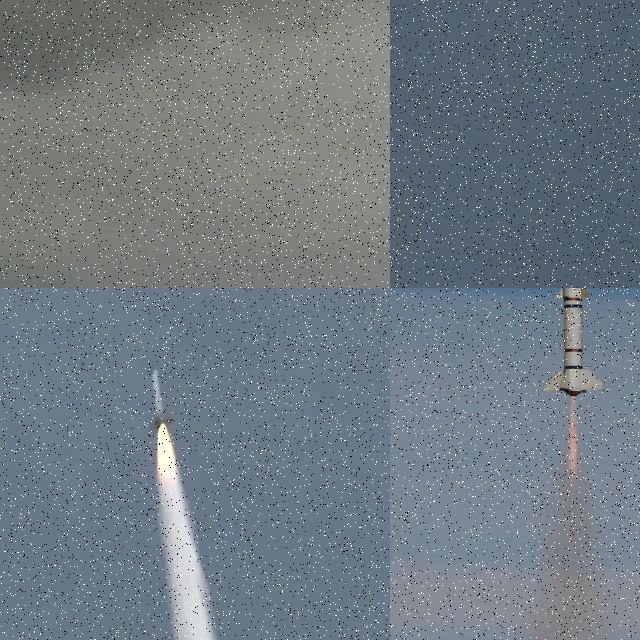Rocket: (542, 288, 606, 398), (152, 364, 167, 427)
